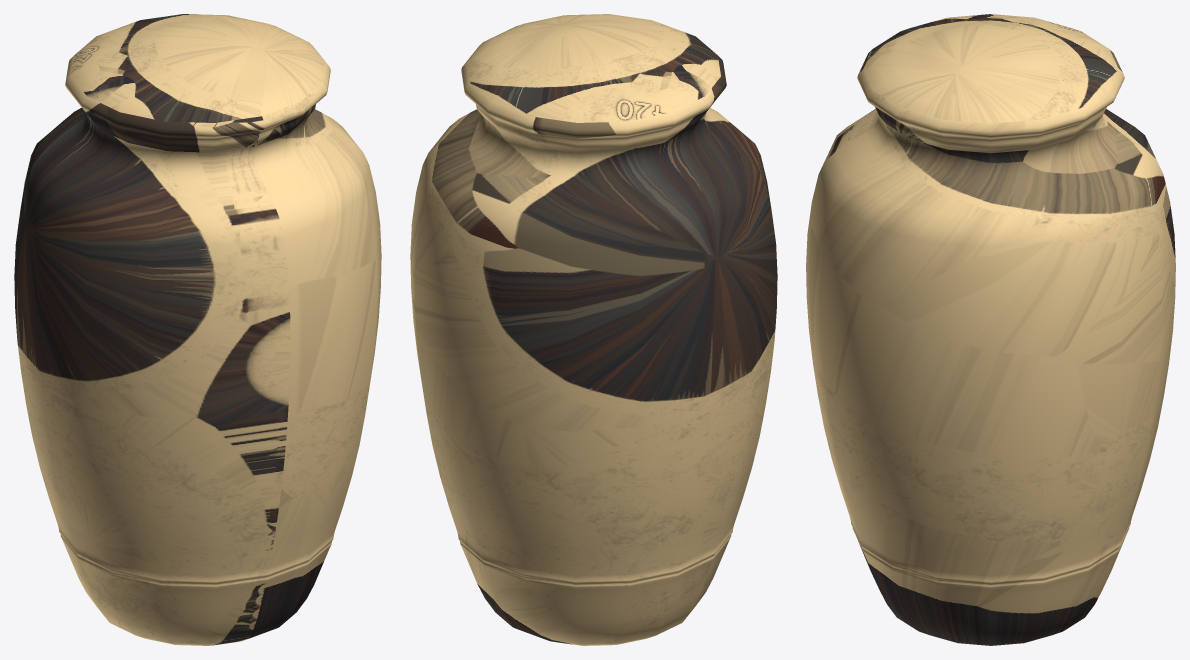
3 renders of one model, left to right at view 1: azimuth 30°, elevation 25°; view 2: azimuth 150°, elevation 25°; view 3: azimuth 270°, elevation 25°, orthographic.
Visible parts, largest first — view 1: urn_low; view 2: urn_low; view 3: urn_low.
Part boxes in pixels (x1=…): urn_low: x1=14, y1=14, x2=381, y2=645; urn_low: x1=410, y1=14, x2=777, y2=645; urn_low: x1=806, y1=14, x2=1175, y2=645.
Size of the model in its own units: 0.2511 by 0.4297 by 0.2511.
